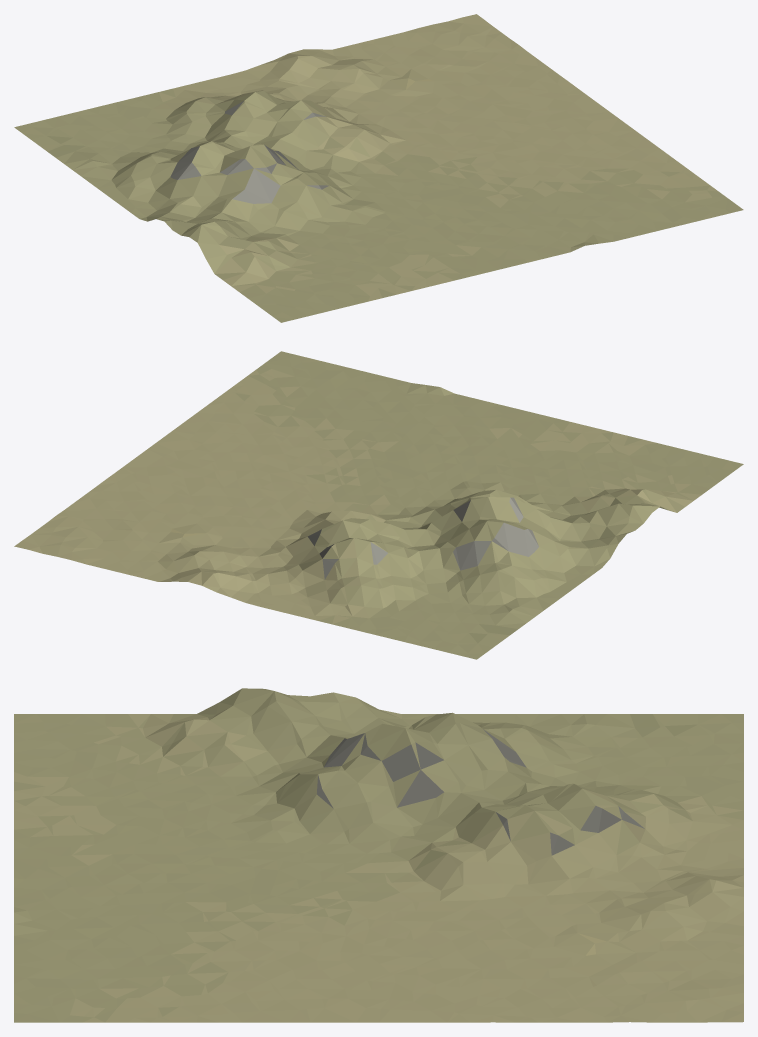
The model's file is Ground_5_0.glb.
The picture shows the model from 3 angles, top to bottom: view 1: azimuth 30°, elevation 25°; view 2: azimuth 150°, elevation 25°; view 3: azimuth 270°, elevation 25°; orthographic projection. The views are drawn at different scales.
Parts seen in each view (by area): view 1: Ground_5_0; view 2: Ground_5_0; view 3: Ground_5_0.
Part boxes in pixels (box(x1,y1,x2,y2)): Ground_5_0: box(14, 14, 743, 322); Ground_5_0: box(14, 351, 743, 659); Ground_5_0: box(14, 688, 743, 1022).
Bounding box in the file's own units: 768 × 70.77 × 768.
